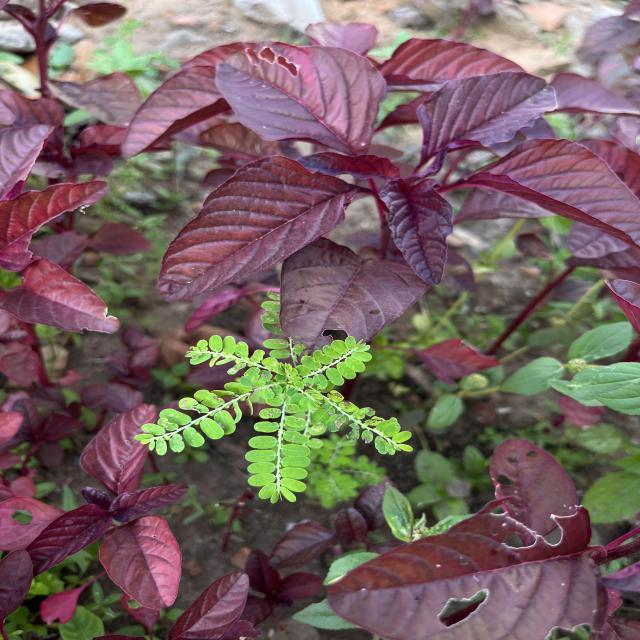Phyllanthus niruri: (133, 388, 240, 458), (306, 388, 416, 456), (244, 400, 312, 506), (182, 333, 279, 388), (292, 334, 375, 390)
